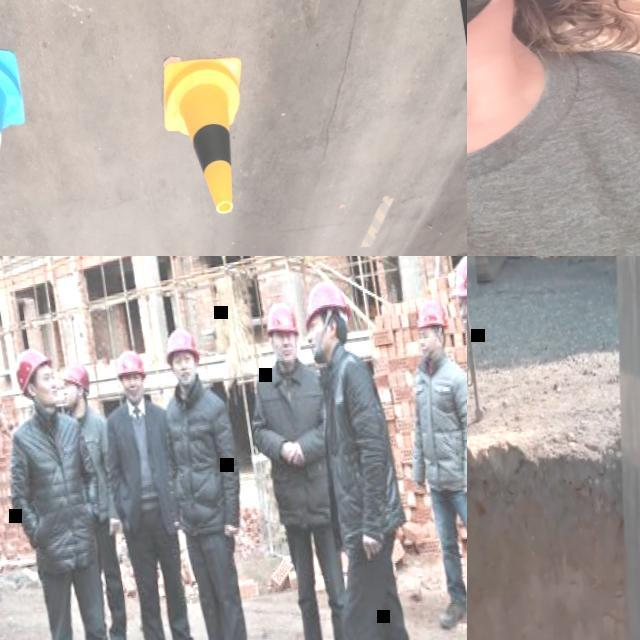helmet: (298, 278, 352, 331), (12, 346, 57, 398), (162, 326, 200, 370), (262, 300, 300, 342), (412, 294, 448, 332), (443, 256, 467, 310), (112, 347, 146, 382), (58, 362, 91, 398)
